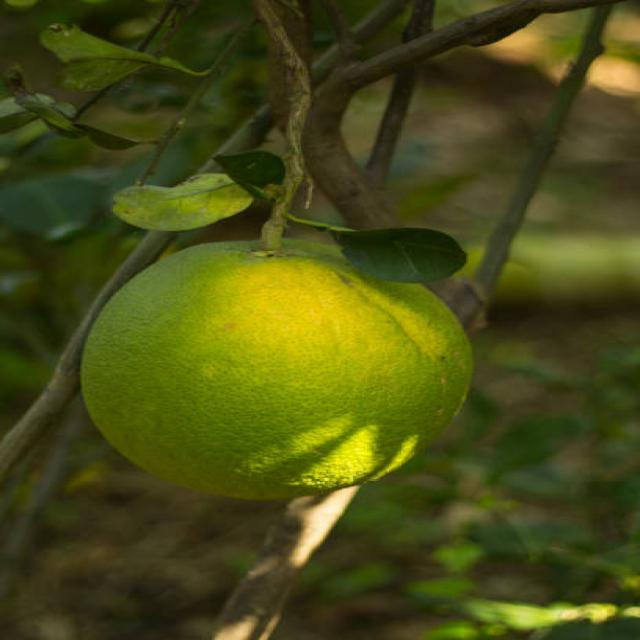Unripe: (81, 233, 476, 500)
